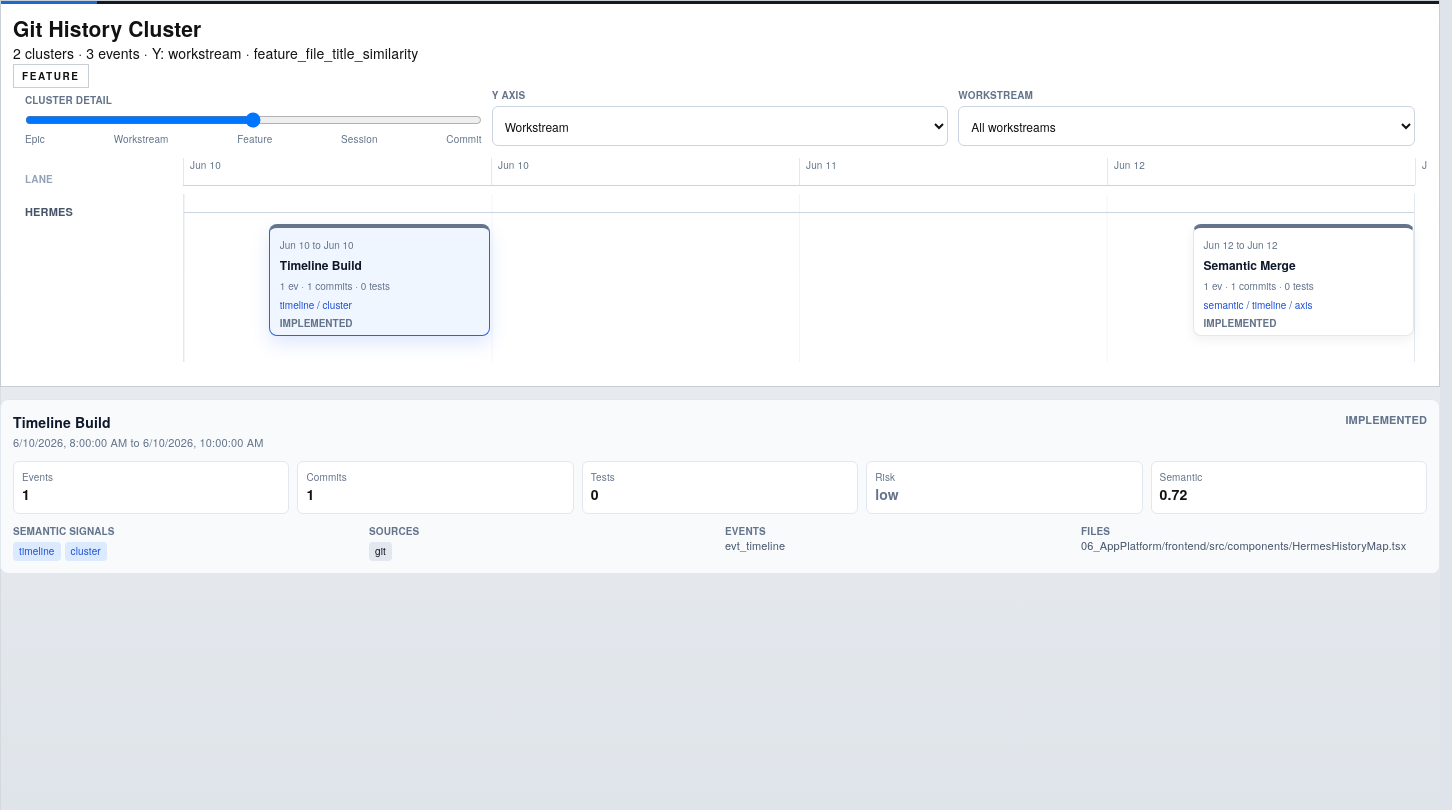
Scenario: HermesHistoryMap › updates the detail panel when a timeline cluster is selected
Click the button "Semantic Merge": (1303, 280) [1193, 224, 1414, 336]
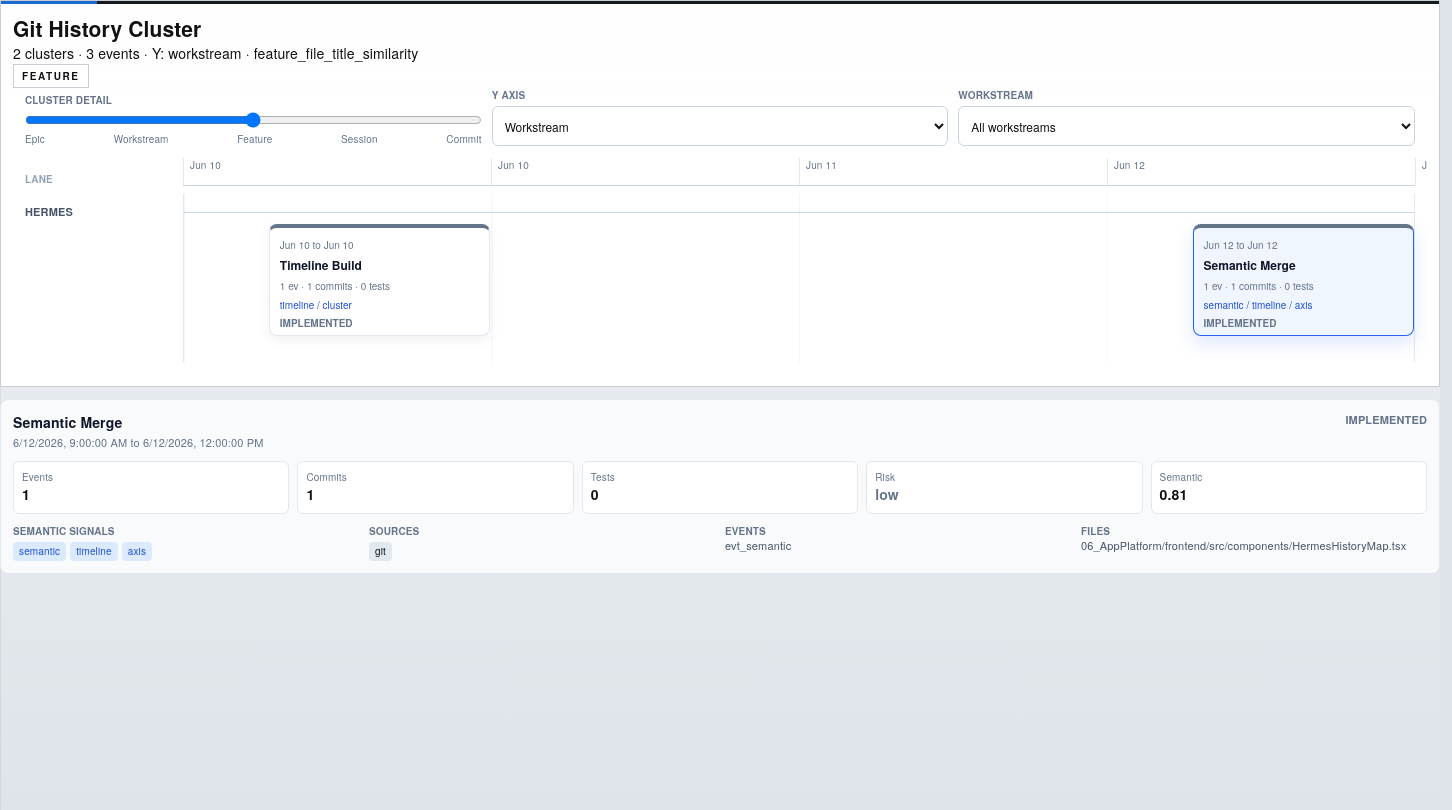
Result: the text "0.81" is shown at [1160, 484, 1187, 504]
Result: the text "semantic" is shown at [13, 542, 66, 560]
Result: the text "evt_semantic" is shown at [725, 537, 791, 553]
